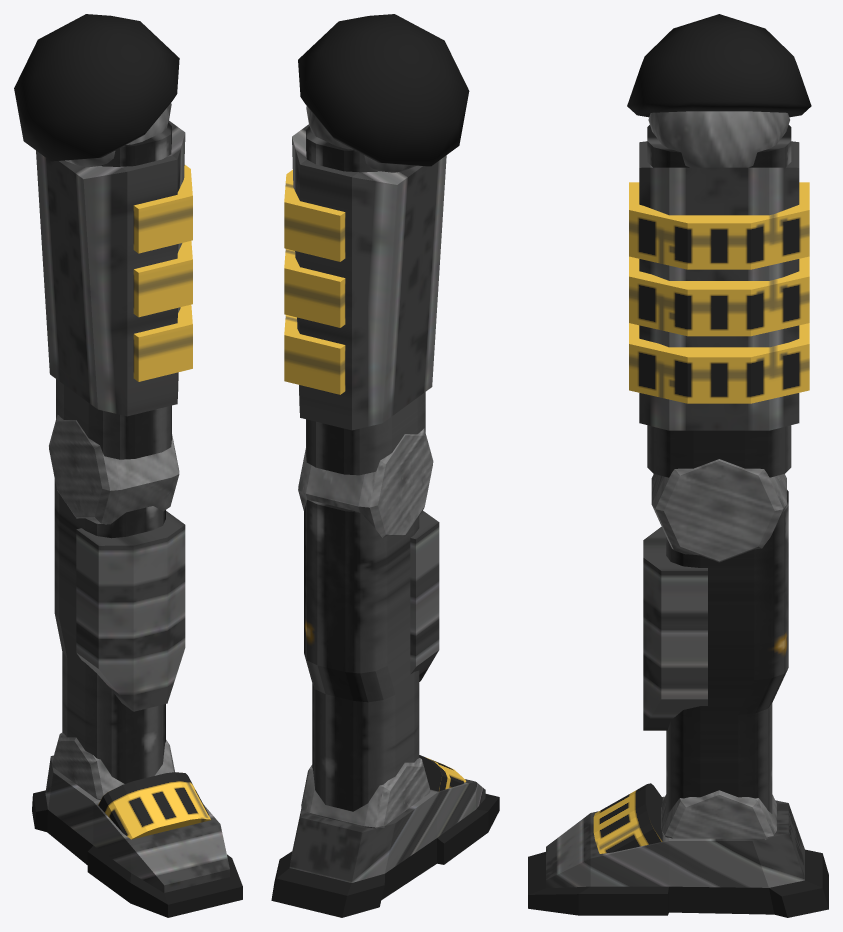
The model's file is Robot 9 L Leg.fbx.
3 views of the same model, side by side, from view 1: azimuth 30°, elevation 25°; view 2: azimuth 150°, elevation 25°; view 3: azimuth 270°, elevation 25° (orthographic). The views are drawn at different scales.
Visible parts, largest first — view 1: Icosphere.009, Cylinder.003, Cube.043; view 2: Icosphere.009, Cylinder.003, Cube.043; view 3: Icosphere.009, Cylinder.003, Cube.043.
Boxes of the visible parts, box(x1,y1,x2,y2) form: Icosphere.009: box(14, 14, 192, 459); Cylinder.003: box(49, 415, 185, 799); Cube.043: box(32, 755, 242, 917); Icosphere.009: box(284, 14, 469, 475); Cylinder.003: box(298, 428, 439, 828); Cube.043: box(271, 755, 499, 917); Icosphere.009: box(627, 14, 811, 477); Cylinder.003: box(643, 459, 788, 839); Cube.043: box(528, 783, 828, 917).
Bounding box in the file's own units: 137 × 713 × 227.
